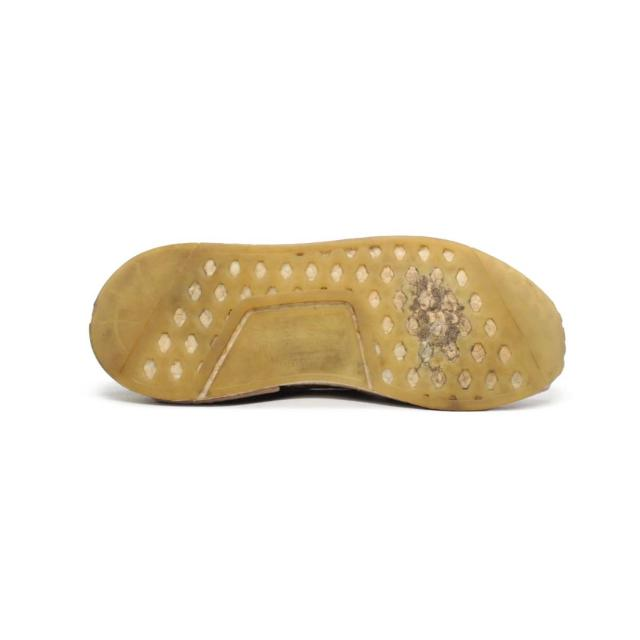outersole: (87, 234, 568, 415)
